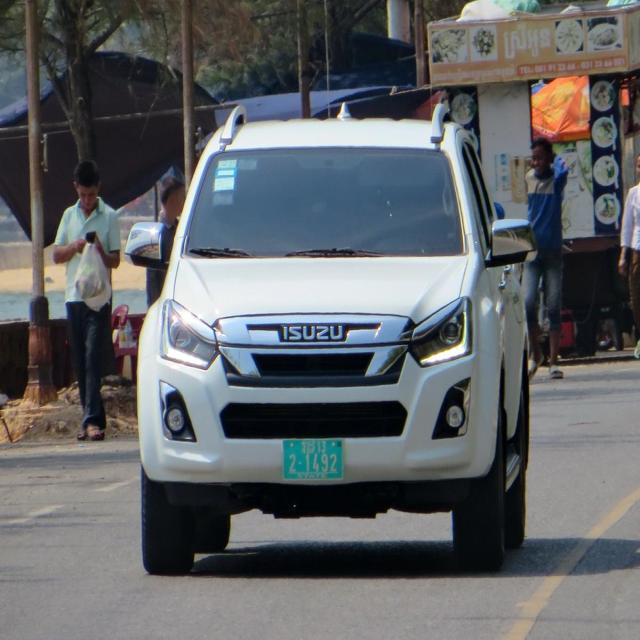State: (301, 440, 318, 453)
